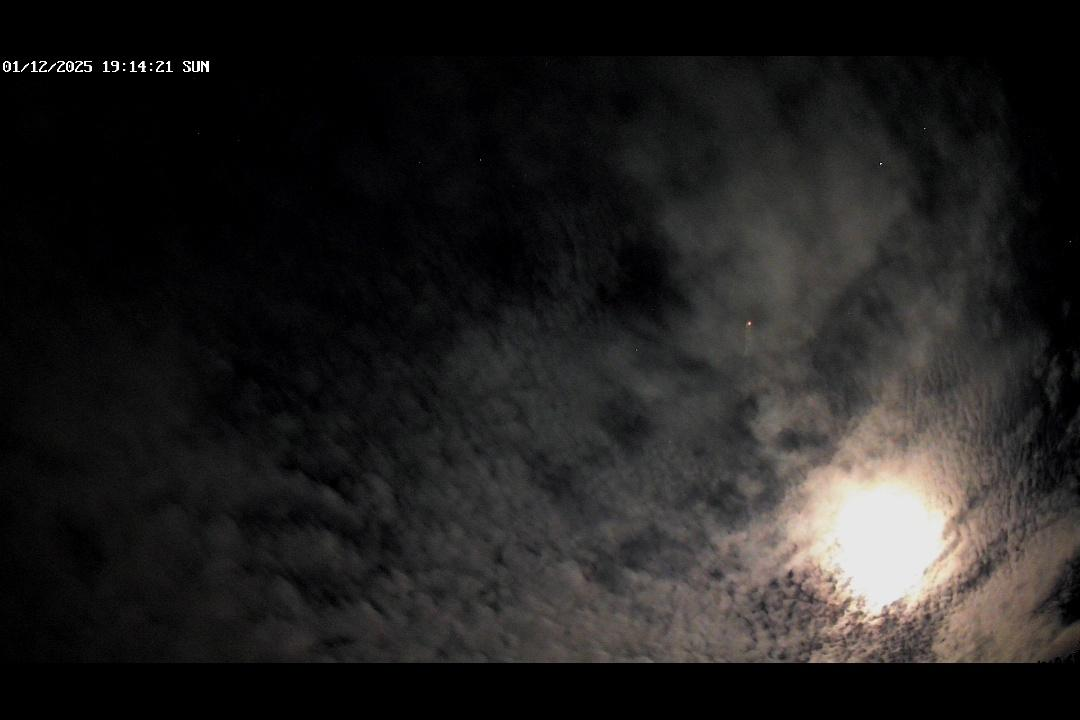Plane: (737, 314, 762, 372)
